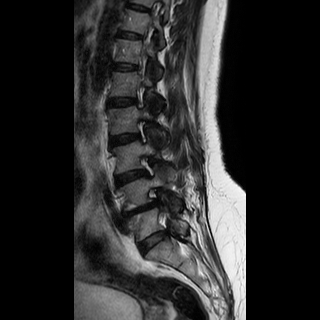LFS0: (130, 114, 152, 147), (136, 151, 160, 181), (127, 80, 149, 112)
